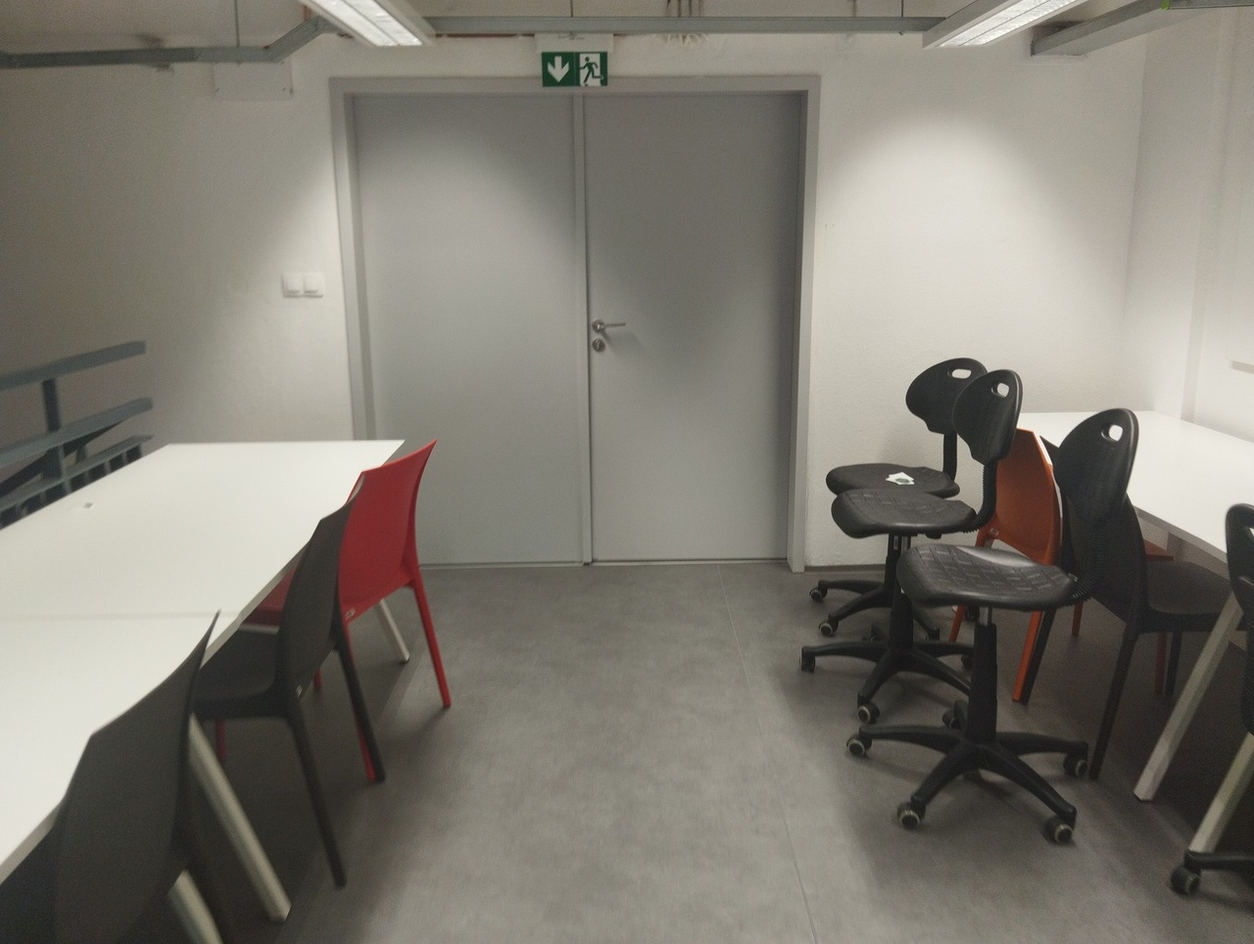Door-handle: (769, 355, 1254, 865), (0, 470, 469, 930), (590, 317, 613, 353)
